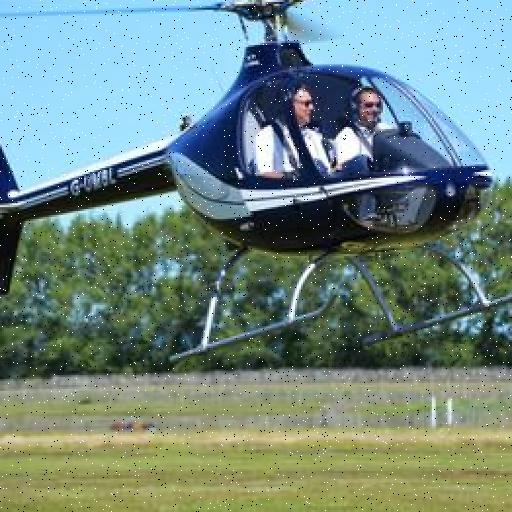helicopter: (1, 1, 512, 376)
